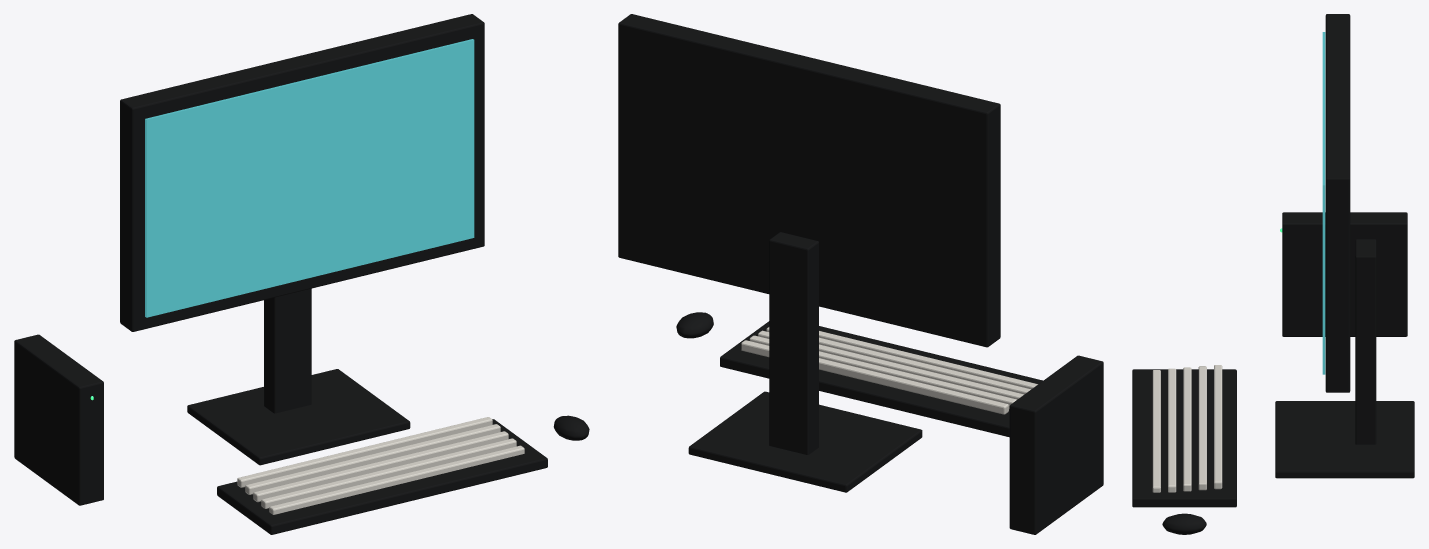
The model's file is PROP_Terminal_EHR.glb.
3 views of the same model, side by side, from view 1: azimuth 30°, elevation 25°; view 2: azimuth 150°, elevation 25°; view 3: azimuth 270°, elevation 25° (orthographic). The views are drawn at different scales.
Visible parts, largest first — view 1: PROP_Terminal_EHR_Mesh, PROP_Terminal_EHR_Screen; view 2: PROP_Terminal_EHR_Mesh; view 3: PROP_Terminal_EHR_Mesh, PROP_Terminal_EHR_Screen.
Part boxes in pixels (x1,y1,x2,y2): PROP_Terminal_EHR_Mesh: (14,14,589,534); PROP_Terminal_EHR_Screen: (145,39,474,317); PROP_Terminal_EHR_Mesh: (618,14,1103,534); PROP_Terminal_EHR_Mesh: (1132,14,1414,534); PROP_Terminal_EHR_Screen: (1322,32,1325,374).
Bounding box in the file's own units: 0.722 × 0.5515 × 0.405.
